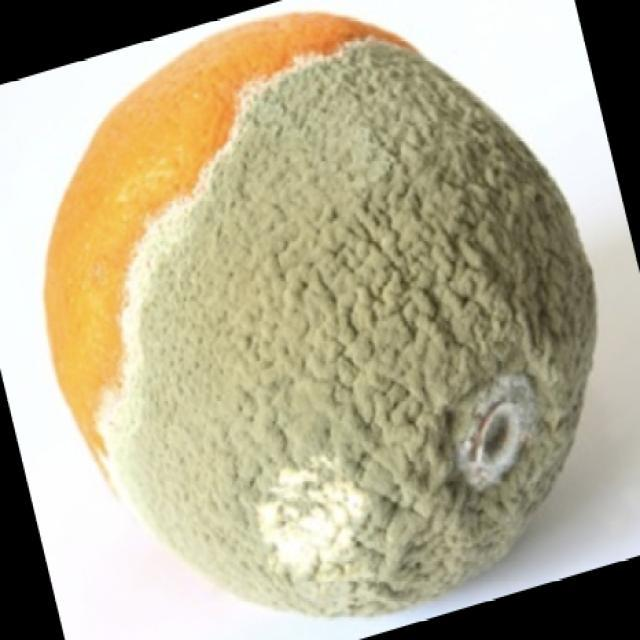sangat-busuk: (107, 41, 594, 614)
